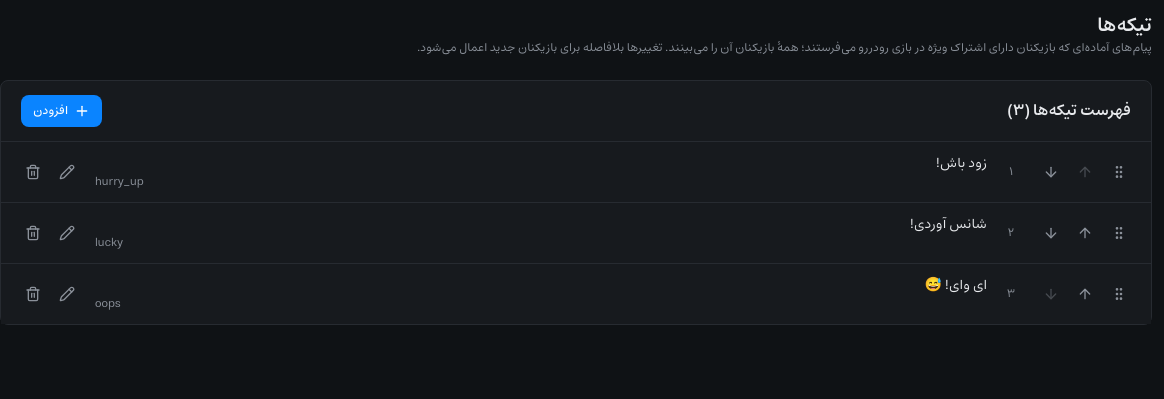
Test: Taunts › cancel drops the local reorder
The image size is (1164, 399).
Expected: the text "زود باش!" is shown, [936,153,987,174]
What coordinates should you click on to do the following:
click the button named "انتقال به پایین" in the row of "زود باش!"
I would click on:
 (1051, 172)
Its box is [1035,156,1067,188].
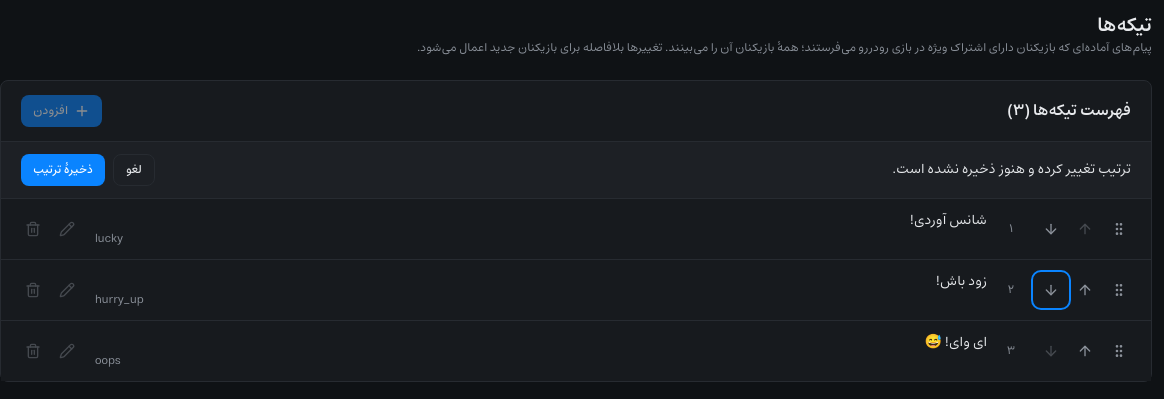
What coordinates should you click on to do the following:
click the button "لغو"
I would click on:
 (134, 170)
Its box is [113,154,155,186].
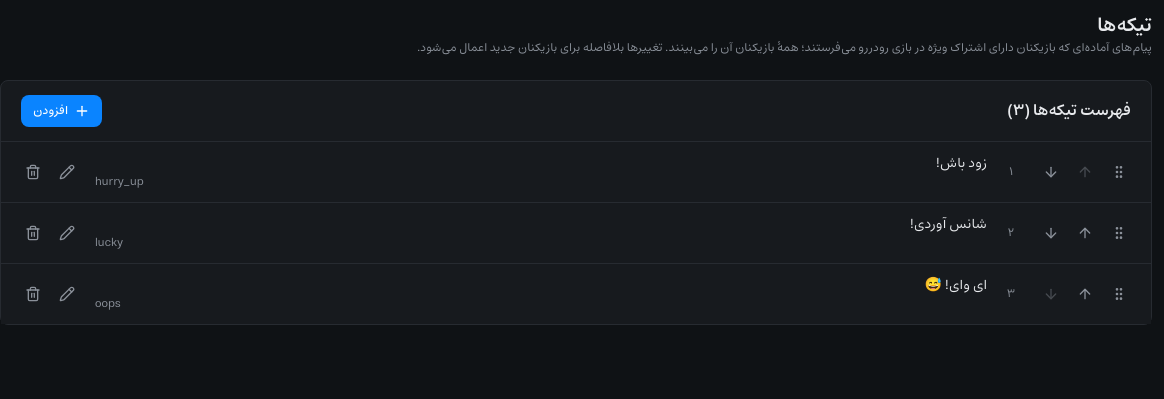
Now the text "ترتیب تغییر کرده و هنوز ذخیره نشده است." is gone
